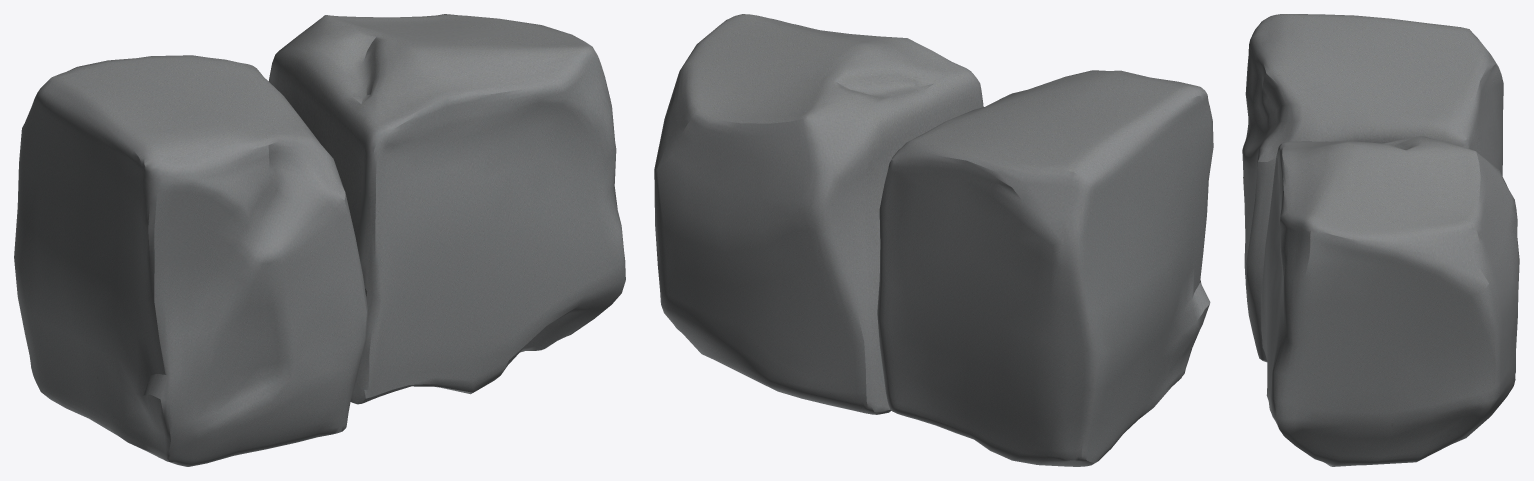
Rendered from brick_half_cinder.glb.
3 renders of one model, left to right at view 1: azimuth 30°, elevation 25°; view 2: azimuth 150°, elevation 25°; view 3: azimuth 270°, elevation 25°, orthographic. The views are drawn at different scales.
Parts seen in each view (by area): view 1: Mesh_0; view 2: Mesh_0; view 3: Mesh_0.
Part boxes in pixels (x1,y1,x2,y2): Mesh_0: (14, 14, 625, 466); Mesh_0: (654, 14, 1213, 466); Mesh_0: (1242, 14, 1519, 466).
Bounding box in the file's own units: 1.9 × 1.21 × 1.08.
Materials: 1 (1 with a texture image).
